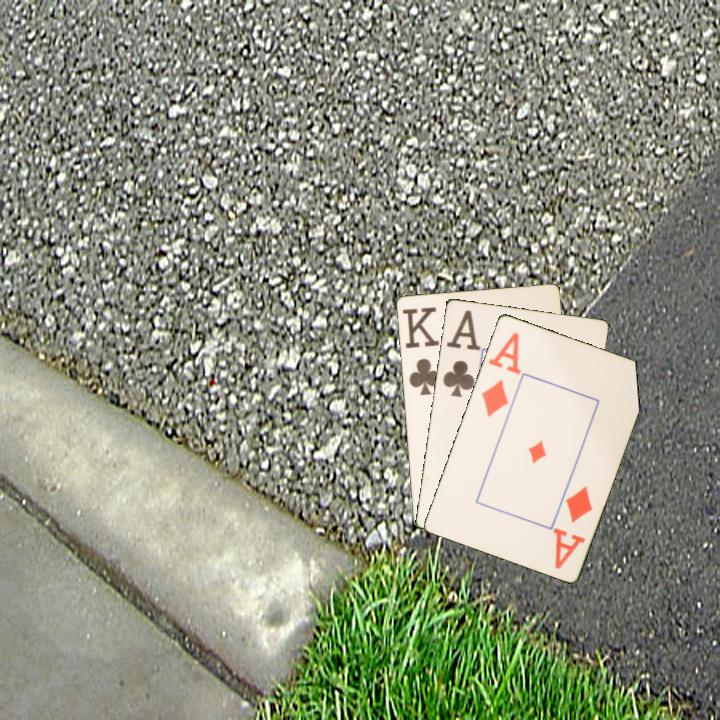Ac: (439, 306, 482, 400)
Ad: (477, 328, 524, 420), (551, 482, 595, 572)
Kc: (398, 303, 443, 398)
